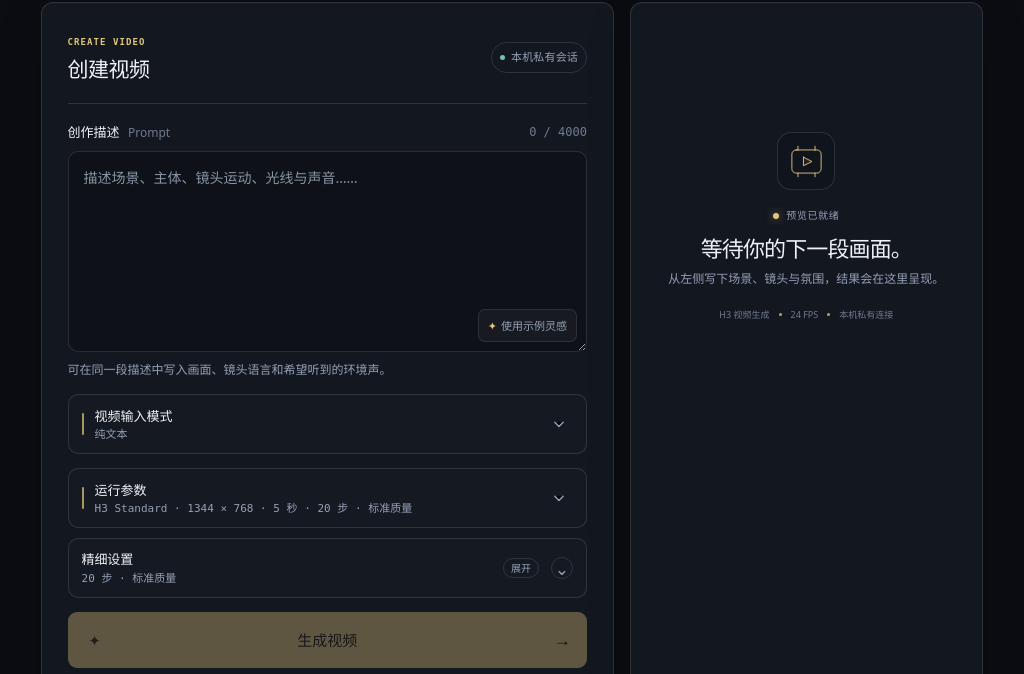
H3 Studio primary screen › lets a creator opt into VAE Tile Batch from advanced settings
The image size is (1024, 674).
Click the button "精细设置 20 步 · 标准质量 展开 ⌄": coordinates (107, 559) [68, 539, 586, 597]
(page scrolled)
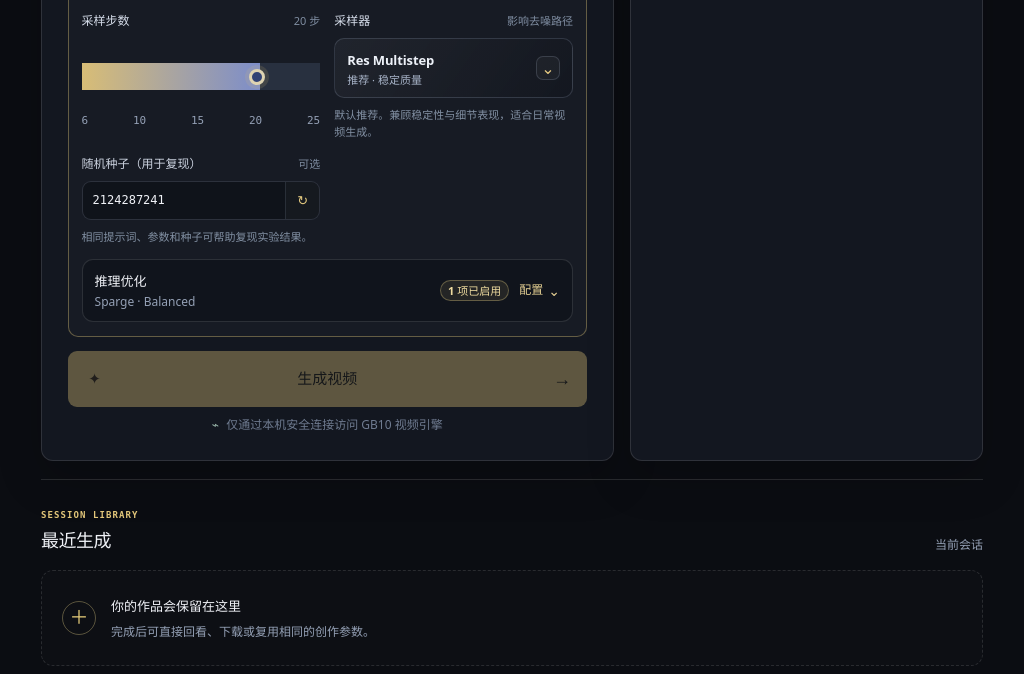
Click the button "推理优化 Sparge · Balanced 1 项已启用 配置 ⌄": coordinates (121, 281) [82, 260, 572, 321]
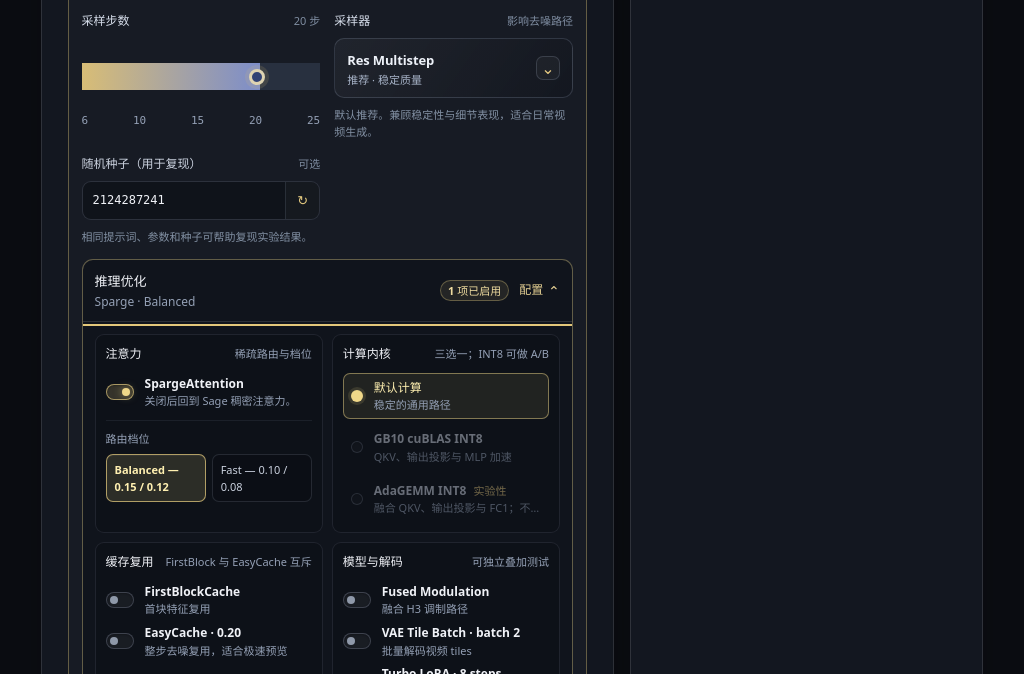
Expected: the checkbox labelled "VAE Tile Batch · batch 2" is not checked
Click the checkbox labelled "VAE Tile Batch · batch 2": coordinates (446, 641) [343, 622, 549, 660]
(page scrolled)
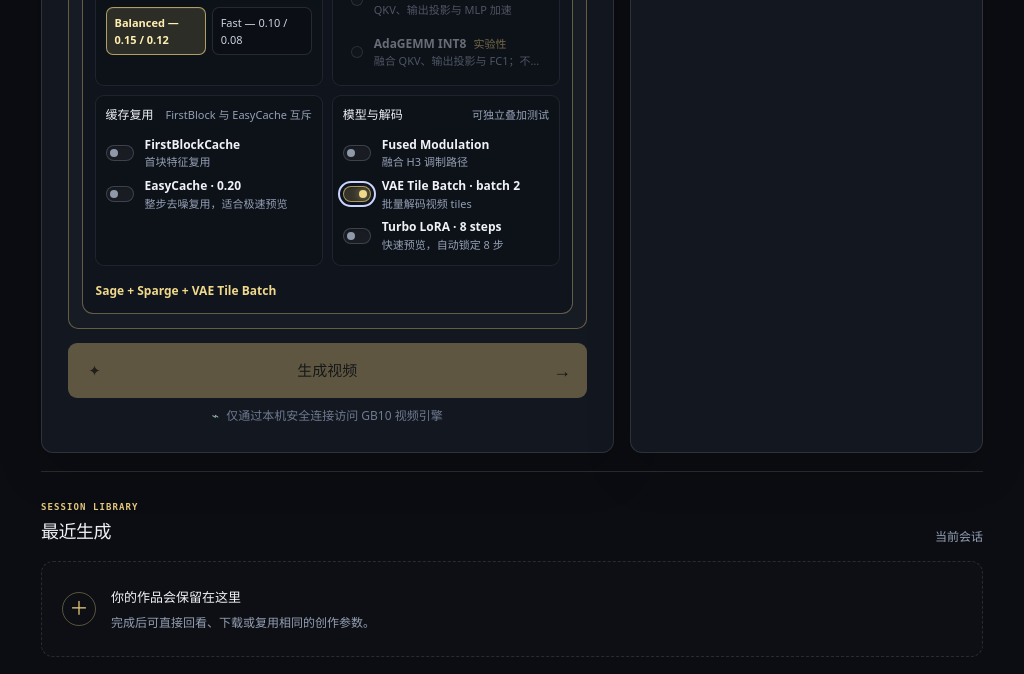
Expected: the checkbox labelled "VAE Tile Batch · batch 2" is checked, [343, 175, 549, 213]
Expected: the text "Sage + Sparge + VAE Tile Batch" is shown, [96, 282, 276, 299]
